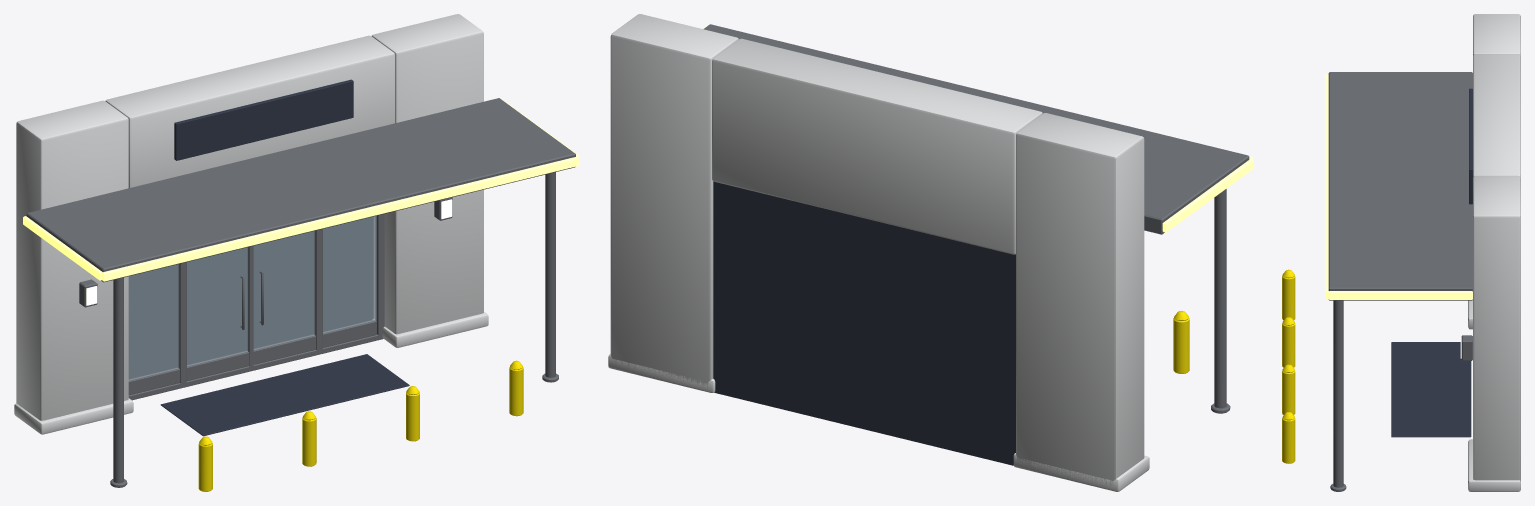
The model's file is entrance.glb.
3 renders of one model, left to right at view 1: azimuth 30°, elevation 25°; view 2: azimuth 150°, elevation 25°; view 3: azimuth 270°, elevation 25°, orthographic. The views are drawn at different scales.
Visible parts, largest first — view 1: Ent_Portal, Ent_Canopy, Ent_Dark, Ent_Glass, Ent_Frame, Ent_Fascia, Ent_Bollards; view 2: Ent_Portal, Ent_Dark, Ent_Canopy, Ent_Fascia, Ent_Bollards; view 3: Ent_Canopy, Ent_Portal, Ent_Dark, Ent_Bollards, Ent_Fascia.
Boxes of the visible parts, box(x1,y1,x2,y2) form: Ent_Portal: box(14, 14, 488, 434); Ent_Canopy: box(26, 98, 575, 487); Ent_Dark: box(129, 79, 409, 436); Ent_Glass: box(128, 216, 376, 380); Ent_Frame: box(128, 214, 384, 400); Ent_Fascia: box(23, 99, 579, 281); Ent_Bollards: box(198, 360, 523, 491); Ent_Portal: box(608, 14, 1149, 491); Ent_Dark: box(713, 181, 1015, 465); Ent_Canopy: box(703, 24, 1249, 413); Ent_Fascia: box(702, 26, 1253, 232); Ent_Bollards: box(1173, 310, 1189, 373); Ent_Canopy: box(1328, 72, 1472, 491); Ent_Portal: box(1468, 14, 1520, 491); Ent_Dark: box(1391, 88, 1472, 437); Ent_Bollards: box(1282, 269, 1295, 463); Ent_Fascia: box(1325, 73, 1472, 299).
Bounding box in the file's own units: 32.49 × 19 × 14.92.
